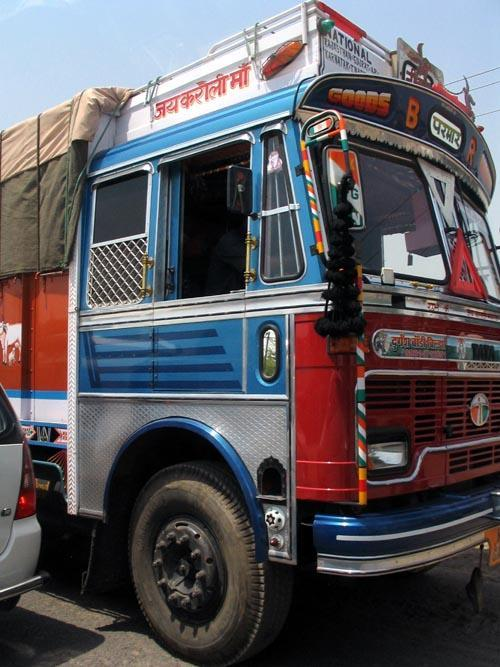truck: (10, 13, 500, 656)
